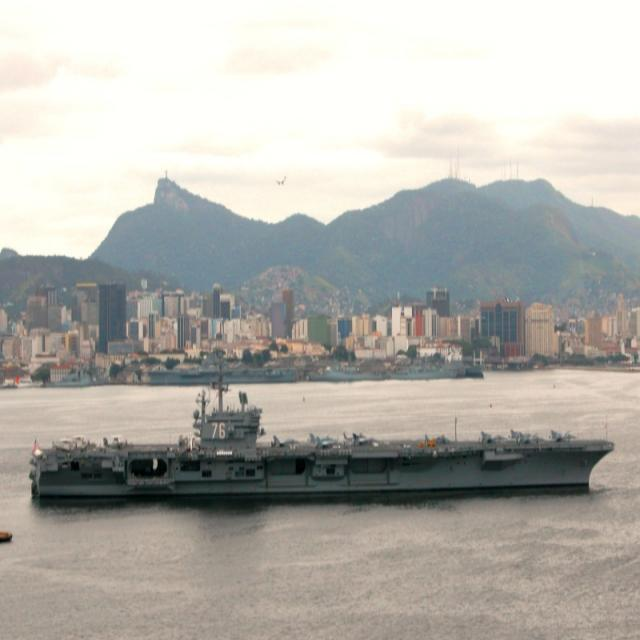Portanaves: (27, 337, 622, 507)
